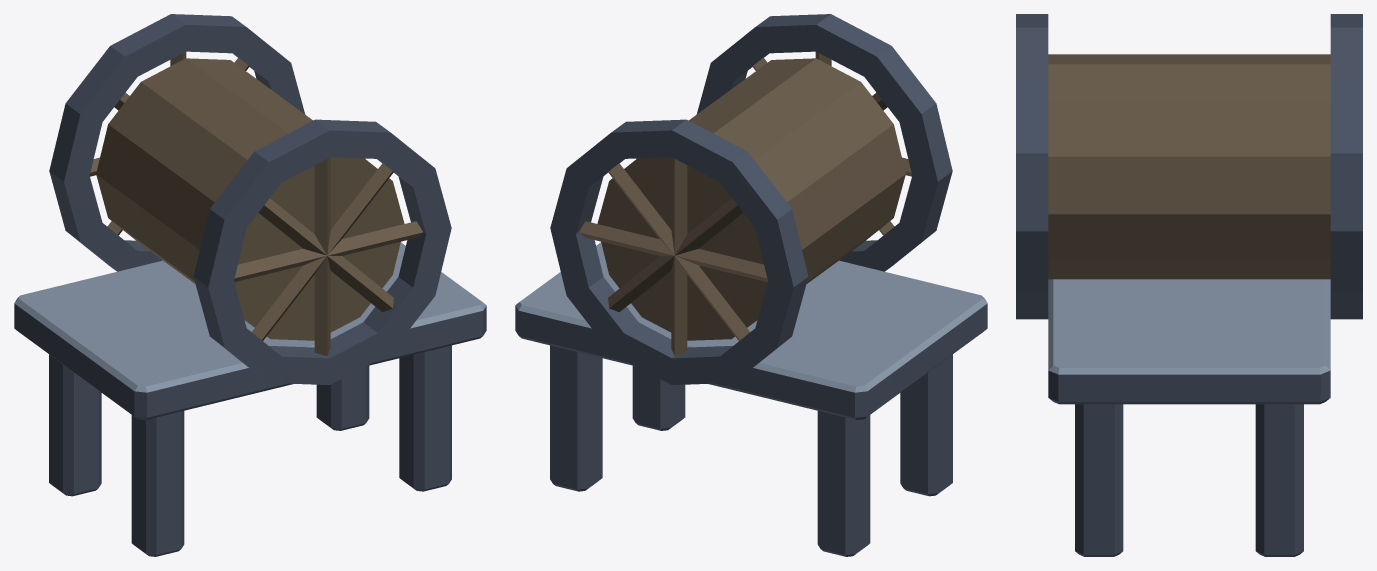
File: winch.glb
3 views of the same model, side by side, from view 1: azimuth 30°, elevation 25°; view 2: azimuth 150°, elevation 25°; view 3: azimuth 270°, elevation 25° (orthographic). The views are drawn at different scales.
Visible parts, largest first — view 1: winch__body; view 2: winch__body; view 3: winch__body.
Part boxes in pixels (x1,y1,x2,y2): winch__body: [14, 14, 486, 556]; winch__body: [515, 14, 987, 556]; winch__body: [1016, 14, 1362, 556].
Bounding box in the file's own units: 1.1 × 1.23 × 0.86.
